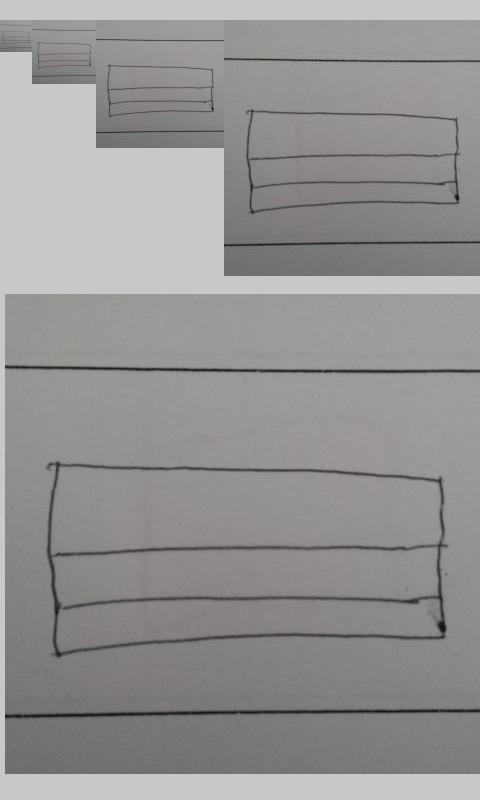list_view: (46, 462, 450, 659), (245, 108, 460, 215), (106, 64, 214, 117), (37, 41, 92, 69), (2, 30, 31, 45)
